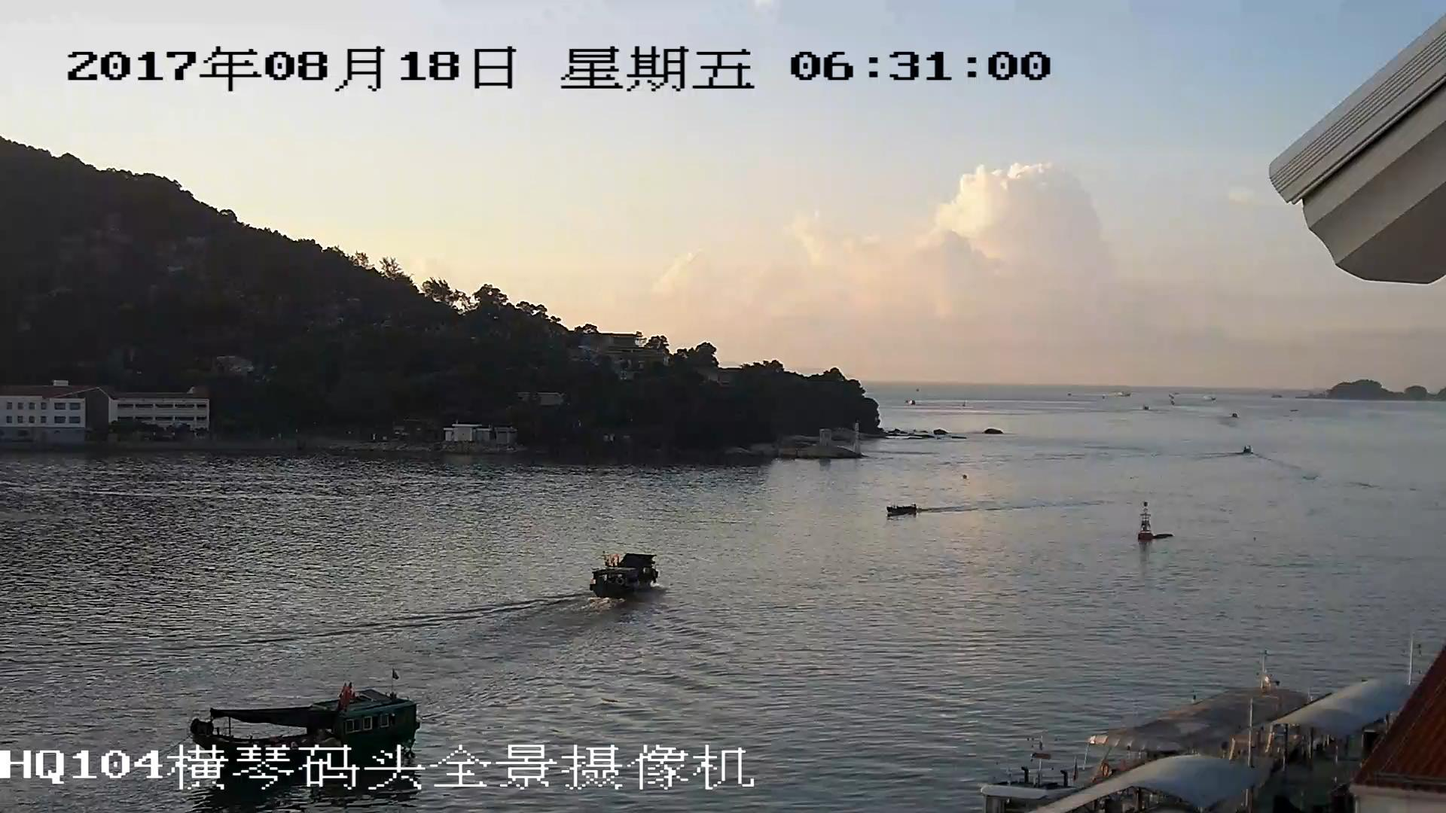fishing boat: (192, 693, 420, 741), (590, 551, 657, 597)
